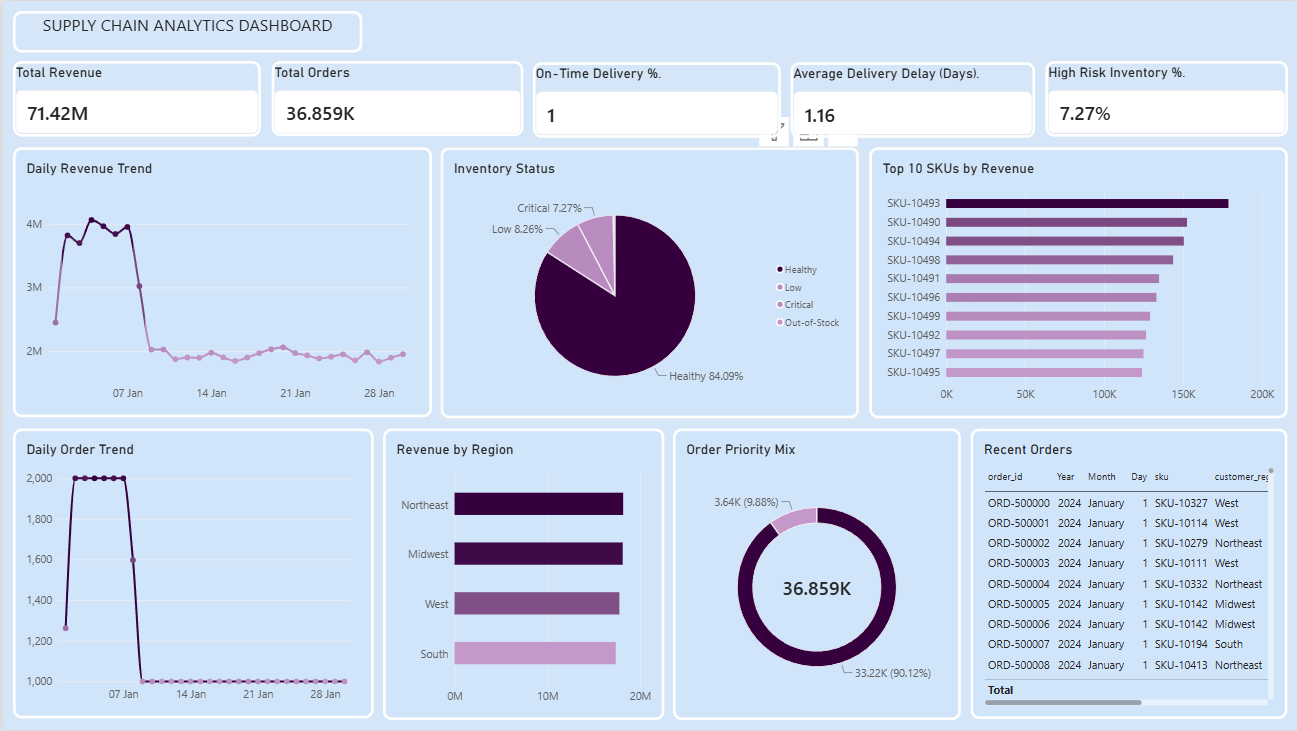

Layout of this report page (visuals, bound fields, positions):
{"tool":"powerbi","page":{"name":"Page 1","canvas":[1920,1080],"ordinal":0},"visuals":[{"type":"lineChart","title":"Daily Revenue Trend","fields":{"Category":["supply_chain_db orders_clean.order_date.Variation.Date Hierarchy.Year","supply_chain_db orders_clean.order_date.Variation.Date Hierarchy.Quarter","supply_chain_db orders_clean.order_date.Variation.Date Hierarchy.Month","supply_chain_db orders_clean.order_date.Variation.Date Hierarchy.Day"],"Y":["Sum(supply_chain_db orders_clean.order_value)"]},"box":[15.4,216.3,620.7,399.9],"z":0},{"type":"pieChart","title":"Inventory Status","fields":{"Category":["supply_chain_db inventory_clean.inventory_status"],"Y":["CountNonNull(supply_chain_db inventory_clean.inventory_status)"]},"box":[649,216.3,620,401.7],"z":1},{"type":"lineChart","title":"Daily Order Trend","fields":{"Category":["supply_chain_db orders_clean.order_date.Variation.Date Hierarchy.Year","supply_chain_db orders_clean.order_date.Variation.Date Hierarchy.Quarter","supply_chain_db orders_clean.order_date.Variation.Date Hierarchy.Month","supply_chain_db orders_clean.order_date.Variation.Date Hierarchy.Day"],"Y":["CountNonNull(supply_chain_db orders_clean.order_id)"]},"box":[14.8,634.1,534.1,429.5],"z":2},{"type":"barChart","title":"Revenue by Region","fields":{"Category":["supply_chain_db orders_clean.customer_region"],"Y":["Sum(supply_chain_db orders_clean.order_value)"]},"box":[562.7,633.9,416.9,432.2],"z":3},{"type":"donutChart","title":"Order Priority Mix","fields":{"Category":["supply_chain_db orders_clean.priority_flag"],"Y":["CountNonNull(supply_chain_db orders_clean.order_id)"]},"box":[993.2,634.1,426.1,431.8],"z":4},{"type":"clusteredBarChart","title":"Top 10 SKUs by Revenue","fields":{"Category":["supply_chain_db orders_clean.sku"],"Y":["Sum(supply_chain_db orders_clean.order_value)"]},"box":[1283.7,216.3,620,401.7],"z":5},{"type":"tableEx","title":"Recent Orders","fields":{"Values":["supply_chain_db orders_clean.order_id","supply_chain_db orders_clean.order_date.Variation.Date Hierarchy.Year","supply_chain_db orders_clean.order_date.Variation.Date Hierarchy.Month","supply_chain_db orders_clean.order_date.Variation.Date Hierarchy.Day","supply_chain_db orders_clean.sku","supply_chain_db orders_clean.customer_region","Sum(supply_chain_db orders_clean.order_value)","supply_chain_db orders_clean.order_status","supply_chain_db orders_clean.priority_flag"]},"box":[1433.9,633.9,469.5,430.5],"z":6},{"type":"cardVisual","title":"Total Revenue","fields":{"Data":["Sum(supply_chain_db orders_clean.order_value)"]},"box":[15.4,89.4,367,112.2],"z":7},{"type":"cardVisual","title":"Total Orders","fields":{"Data":["CountNonNull(supply_chain_db orders_clean.order_id)"]},"box":[398,89,373.1,111.5],"z":8},{"type":"cardVisual","title":"On-Time Delivery %.","fields":{"Data":["supply_chain_db shipments_clean.On-Time Delivery Rate %"]},"box":[786,90,367,112.2],"z":9},{"type":"cardVisual","title":"Average Delivery Delay (Days).","fields":{"Data":["Avg(supply_chain_db shipments_clean.delivery_delay_days)"]},"box":[1166.7,90.2,362.7,111.8],"z":10},{"type":"cardVisual","title":"High Risk Inventory %.","fields":{"Data":["supply_chain_db inventory_clean.High Risk Inventory %"]},"box":[1545.1,88.2,359,112.2],"z":11},{"type":"textbox","box":[15.4,14.4,517.6,61.5],"z":12}]}

Visuals, with their boxes in screenshot pixels (x1, y1, x2, y2), scaled from the page's 1920x1080 canvas onto the 1297x731 screenshot:
"Daily Revenue Trend" lineChart: rect(10, 146, 430, 417)
"Inventory Status" pieChart: rect(438, 146, 857, 418)
"Daily Order Trend" lineChart: rect(10, 429, 371, 720)
"Revenue by Region" barChart: rect(380, 429, 662, 722)
"Order Priority Mix" donutChart: rect(671, 429, 959, 721)
"Top 10 SKUs by Revenue" clusteredBarChart: rect(867, 146, 1286, 418)
"Recent Orders" tableEx: rect(969, 429, 1286, 720)
"Total Revenue" cardVisual: rect(10, 61, 258, 136)
"Total Orders" cardVisual: rect(269, 60, 521, 136)
"On-Time Delivery %." cardVisual: rect(531, 61, 779, 137)
"Average Delivery Delay (Days)." cardVisual: rect(788, 61, 1033, 137)
"High Risk Inventory %." cardVisual: rect(1044, 60, 1286, 136)
textbox: rect(10, 10, 360, 51)
